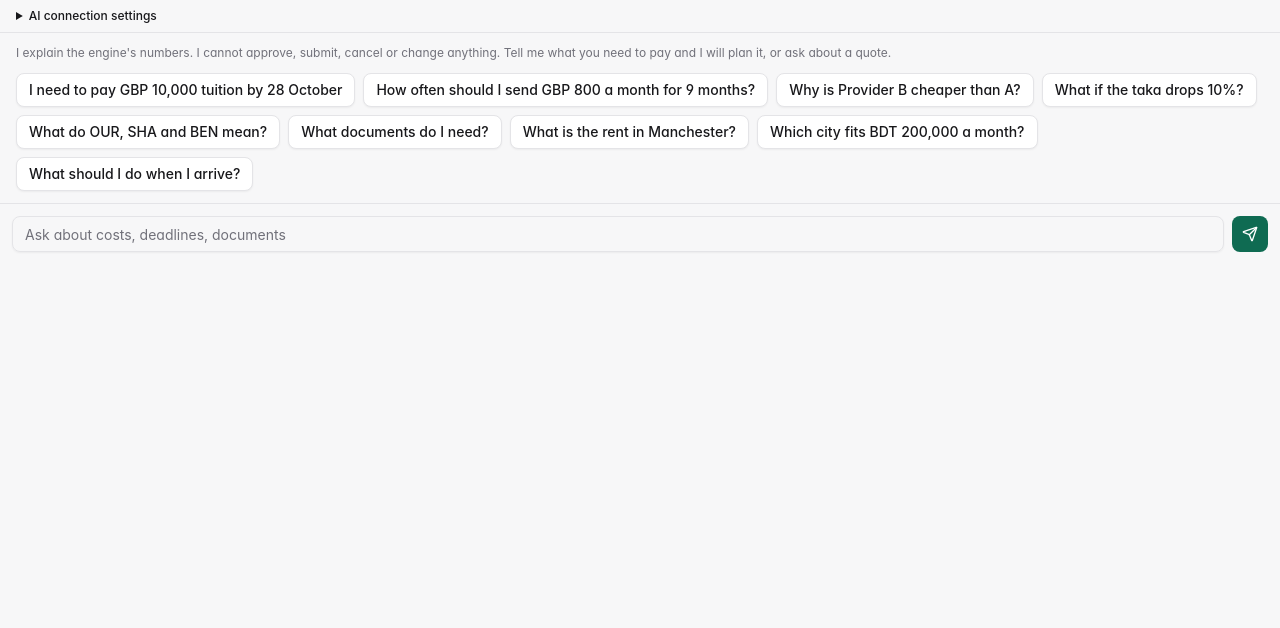
Scenario: saved cloud connection › removes the server key while preserving the conversation
Click the heading "AI connection settings" at x=93, y=16, box [29,8,157,23]
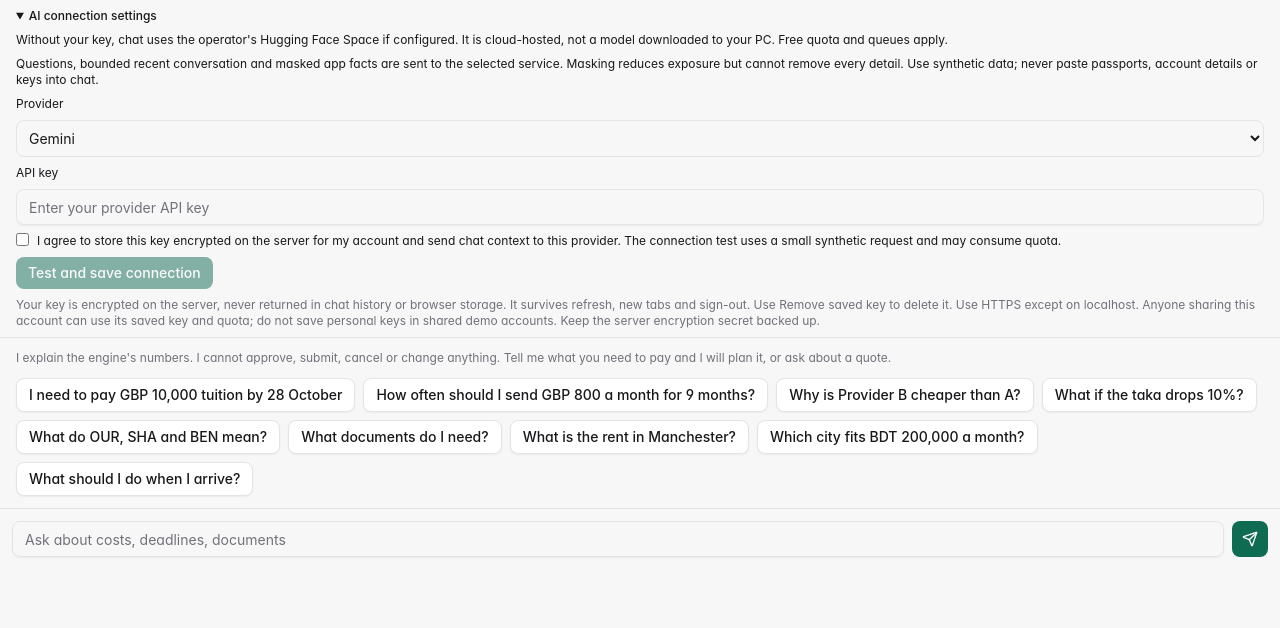
Select "Groq" in the dropdown labelled "Provider" at x=640, y=138, box [16,120,1264,157]
Type "gsk_synthetic_test_key_only" into the password field labelled "API key" at x=640, y=207, box [16,189,1264,225]
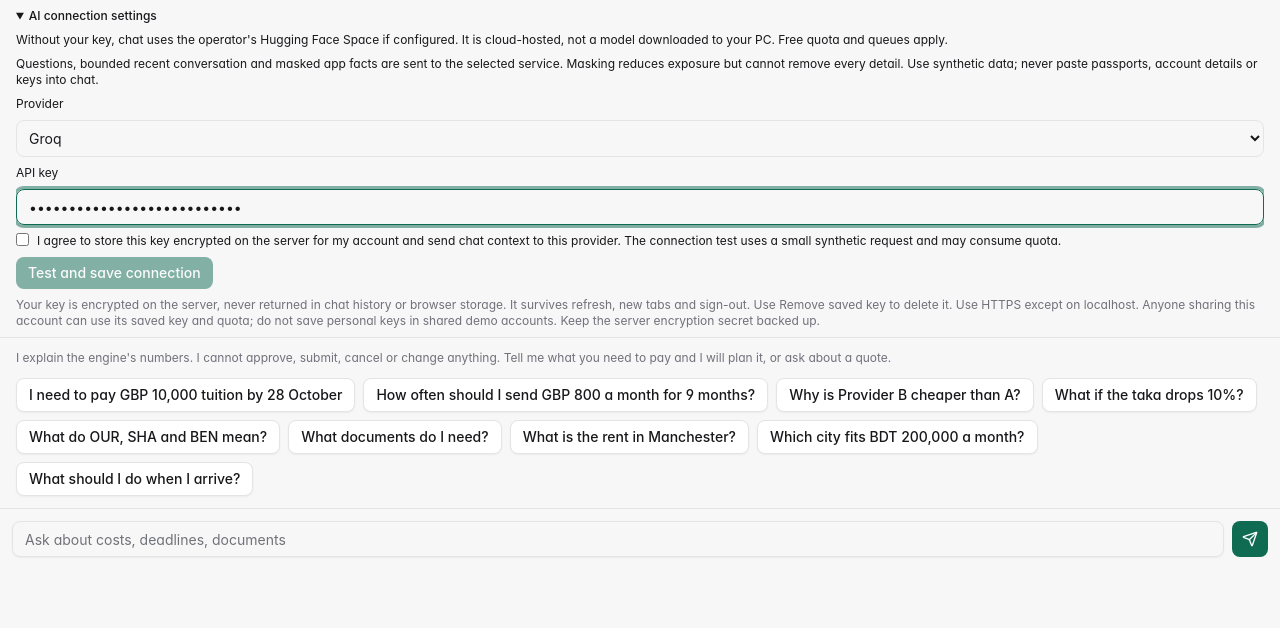
Check: the button "Test and save connection" is disabled, box [16,257,213,289]
Click the checkbox at x=22, y=240, box [16,233,29,246]
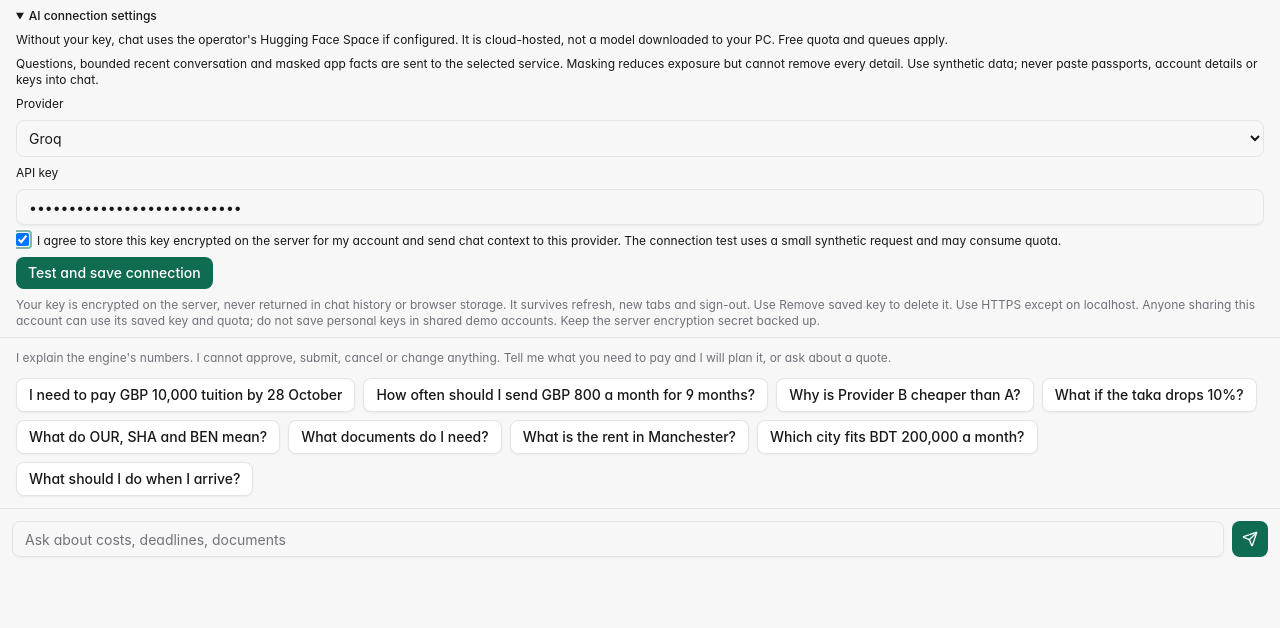
Click the button "Test and save connection" at x=114, y=273, box [16,257,213,289]
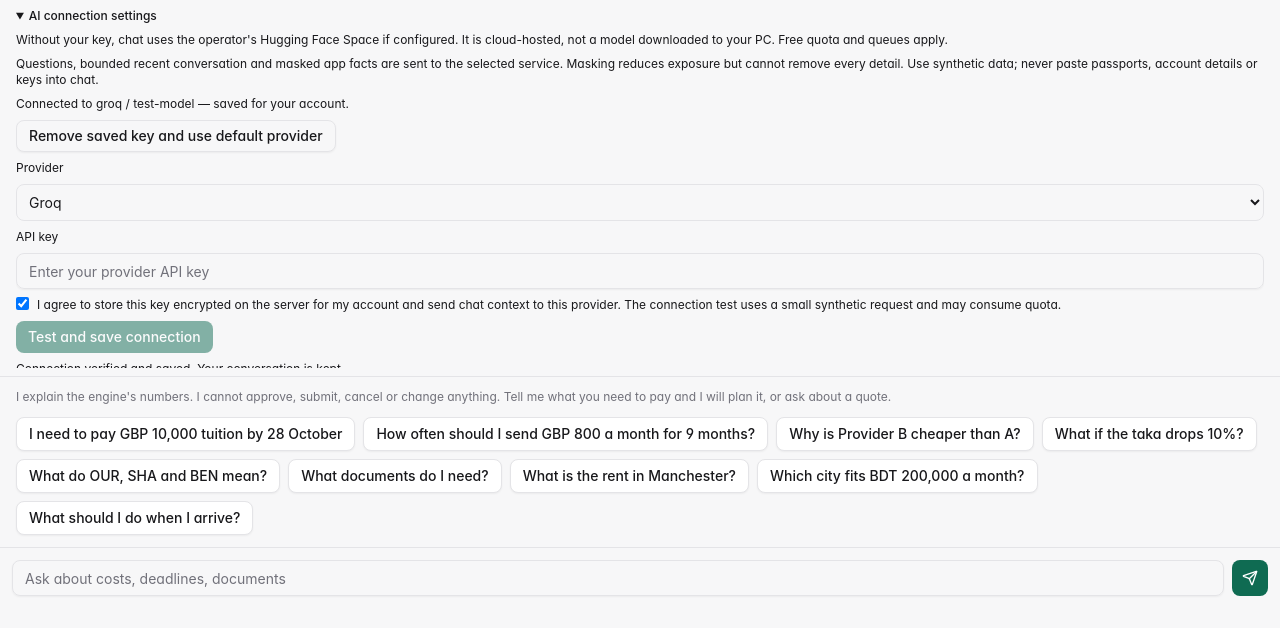
Check: the text "Connected to groq / test-model — saved for your account." is shown, box [16,96,349,111]
Type "hello" into the field named "Your question" at x=618, y=578, box [12,560,1224,596]
Click the button named "Send" at x=1250, y=578, box [1232,560,1268,596]
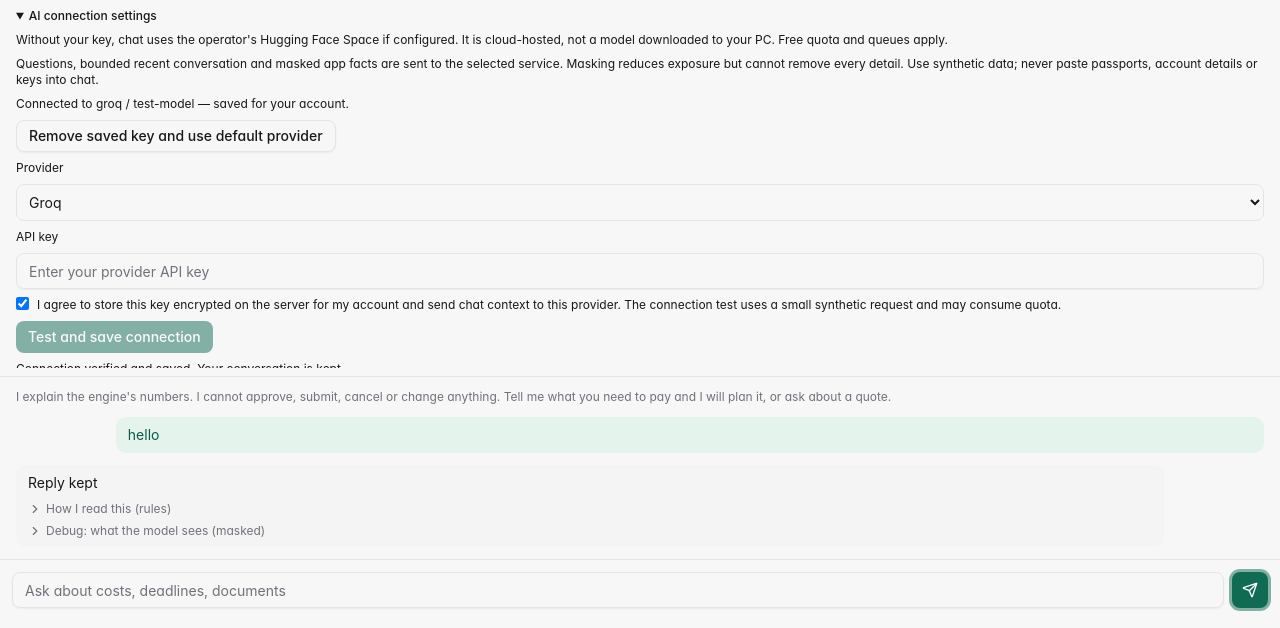
Check: the text "Reply kept" is shown, box [28,474,98,491]
Click the button "Remove saved key and use default provider" at x=176, y=136, box [16,120,336,152]
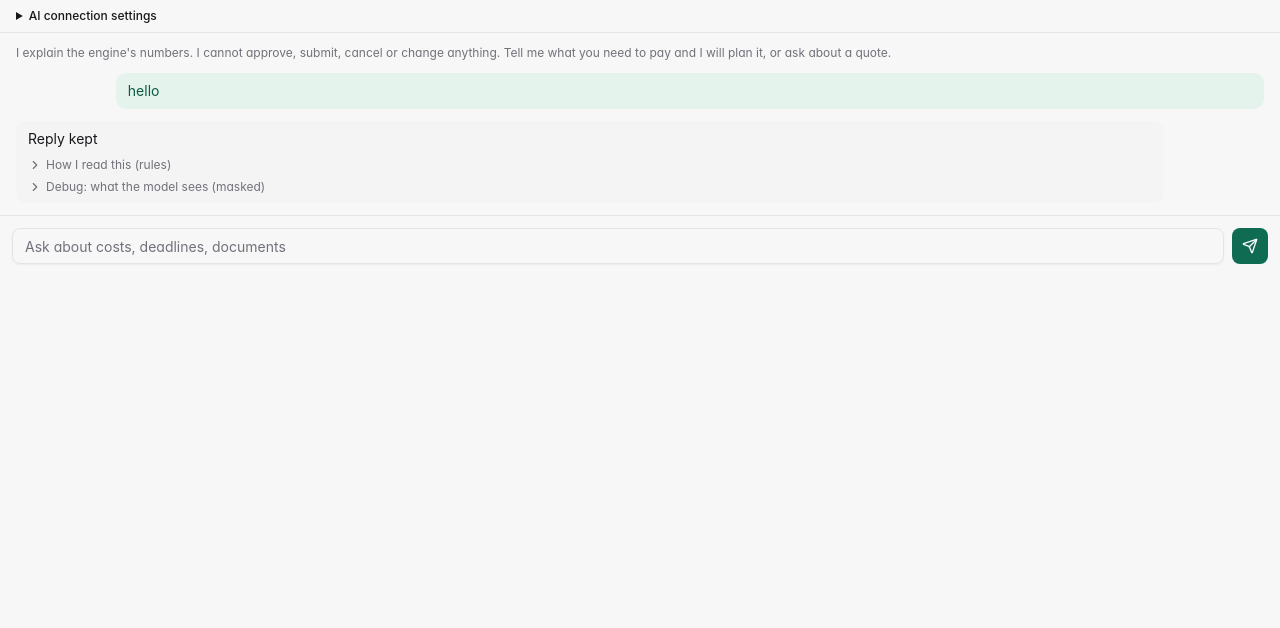
Check: the text "Reply kept" is shown, box [28,130,98,147]
Check: the text "Connected to groq" is gone
